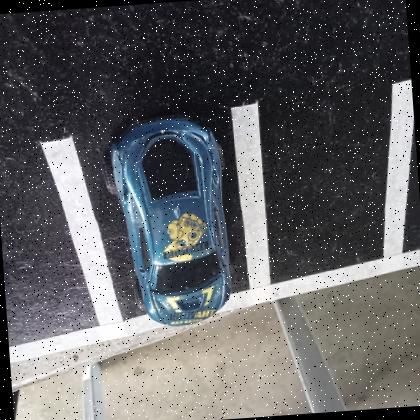Car: (111, 113, 232, 326)
